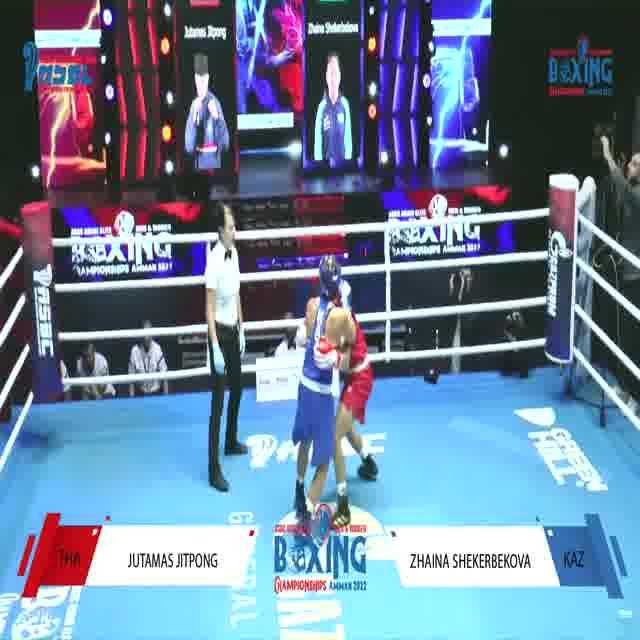blue-player: (289, 252, 359, 546)
red-player: (302, 269, 381, 533)
referee: (192, 199, 254, 503)
